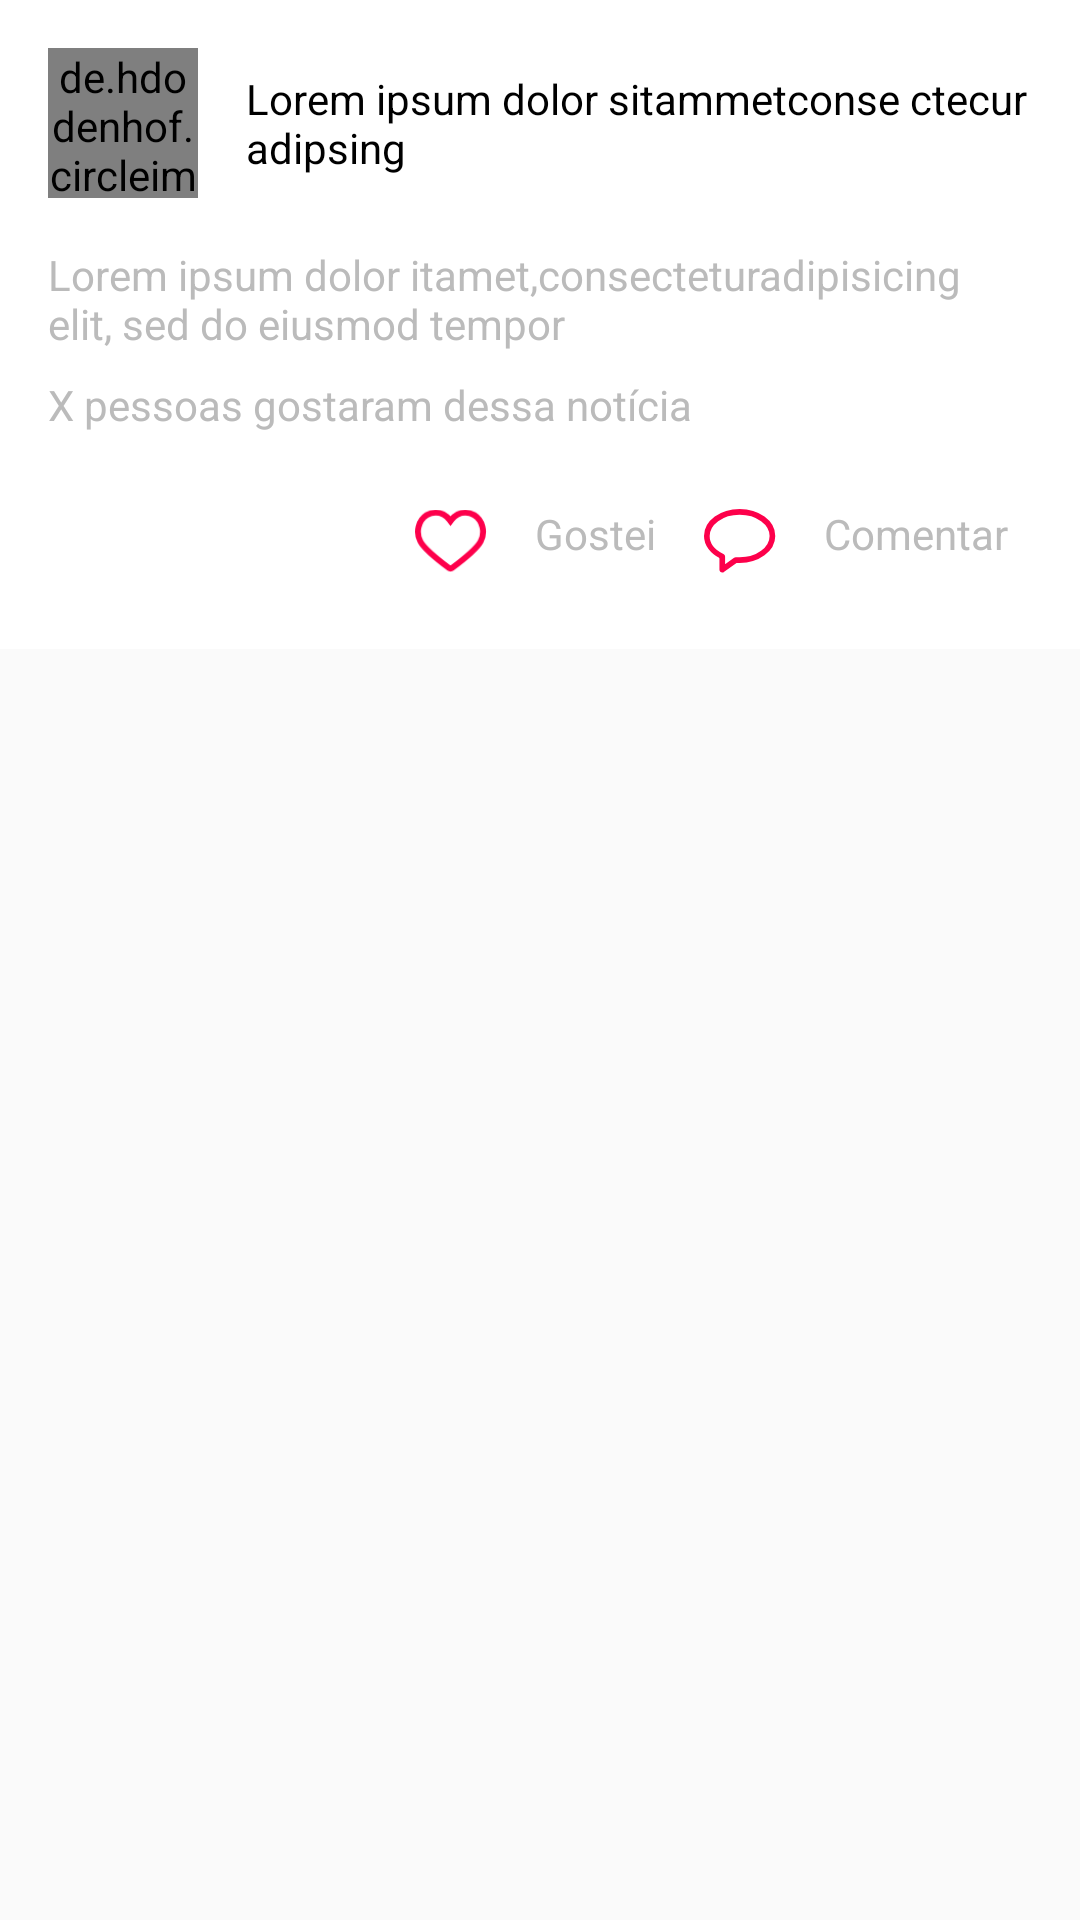

Icons on this 1080w x 1920h Android screen, each with the point to tap as point (x, y):
comment: point (740, 541)
like: point (450, 541)
